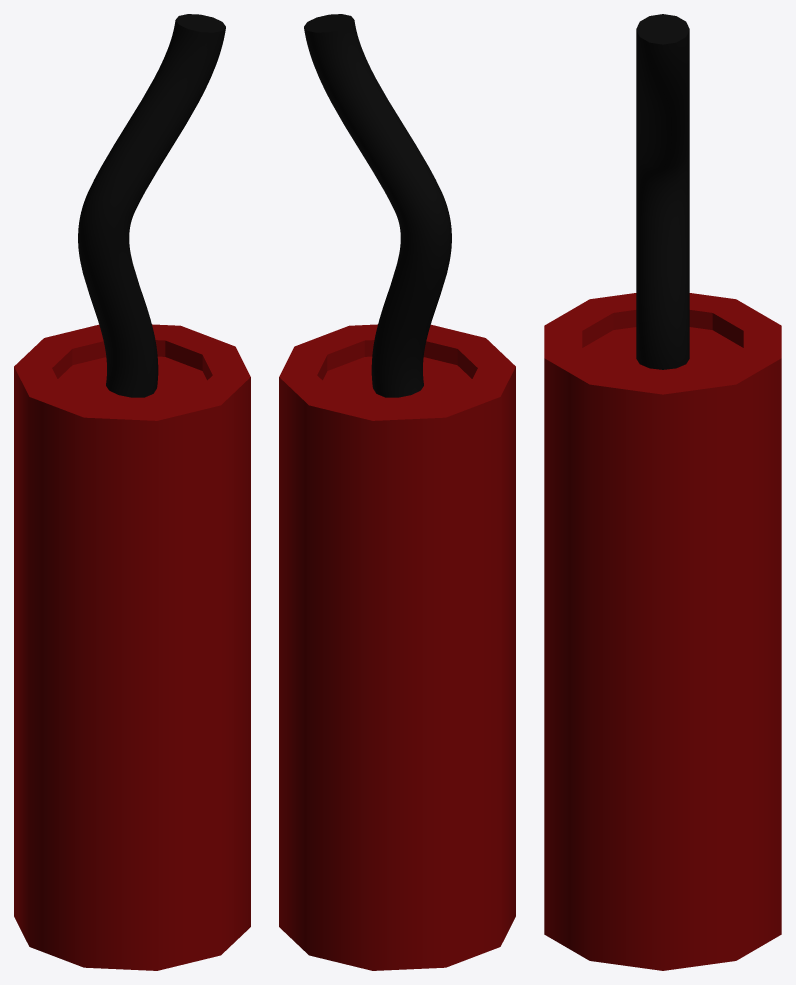
The model's file is coheton.FBX.
The picture shows the model from 3 angles, left to right: view 1: azimuth 30°, elevation 25°; view 2: azimuth 150°, elevation 25°; view 3: azimuth 270°, elevation 25°; orthographic projection. The views are drawn at different scales.
Visible parts, largest first — view 1: Cylinder001; view 2: Cylinder001; view 3: Cylinder001.
Boxes of the visible parts, x1,y1,x2,y2 form: Cylinder001: [14, 14, 250, 970]; Cylinder001: [279, 14, 515, 970]; Cylinder001: [544, 14, 781, 970].
Size of the model in its own units: 0.1 by 0.4105 by 0.0951.
